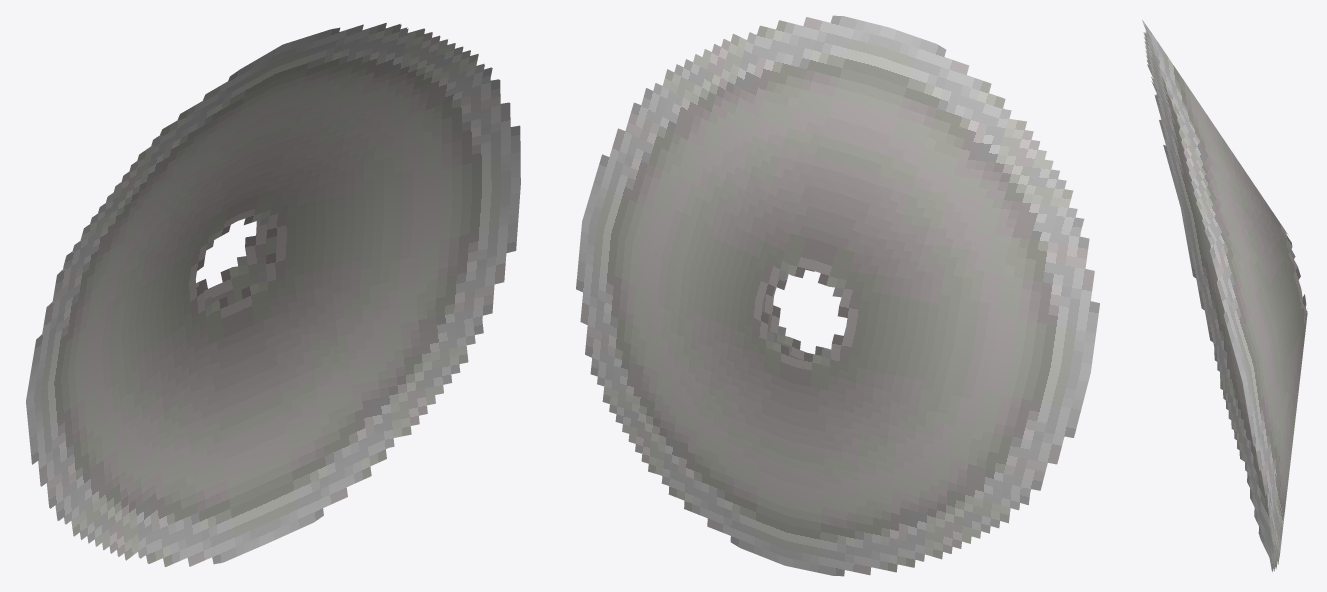
File: acc_mirror_doctor.dae
3 renders of one model, left to right at view 1: azimuth 30°, elevation 25°; view 2: azimuth 150°, elevation 25°; view 3: azimuth 270°, elevation 25°, orthographic. The views are drawn at different scales.
Visible parts, largest first — view 1: acc_mirror_doctor; view 2: acc_mirror_doctor; view 3: acc_mirror_doctor.
Part boxes in pixels (bbox=[...]): acc_mirror_doctor: bbox=[26, 23, 520, 566]; acc_mirror_doctor: bbox=[576, 15, 1099, 576]; acc_mirror_doctor: bbox=[1142, 20, 1307, 571].
Bounding box in the file's own units: 8.5 × 8.38 × 2.55.
1 material, 1 textured.
